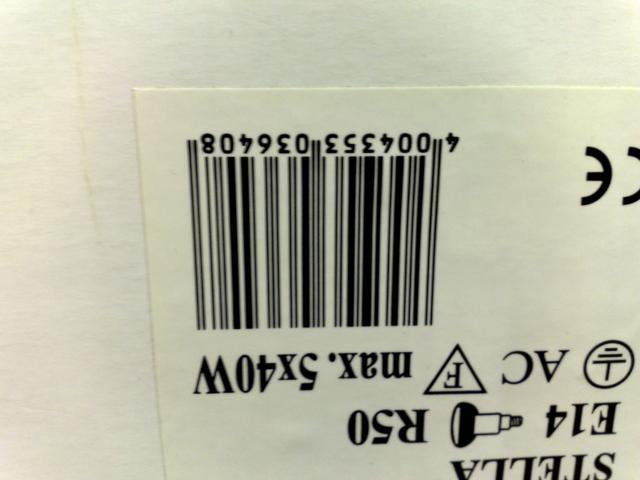Barcode: (175, 111, 478, 342)
